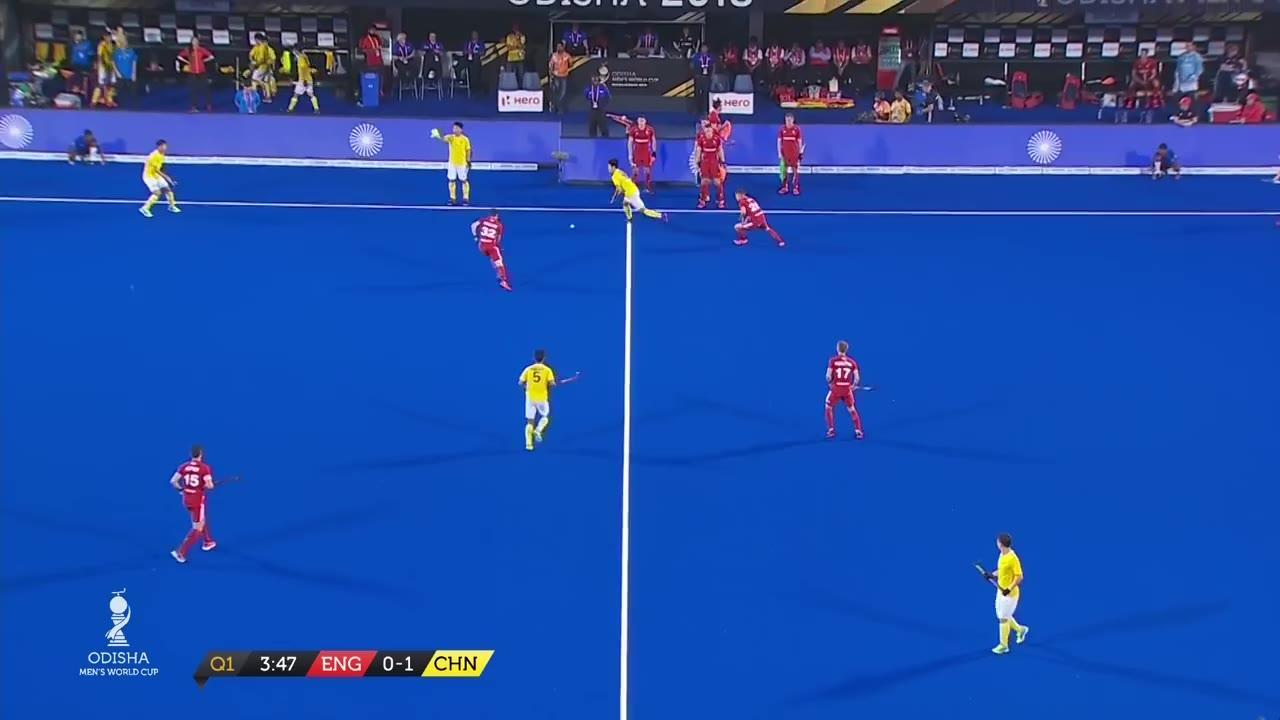ball: (568, 224, 578, 230)
